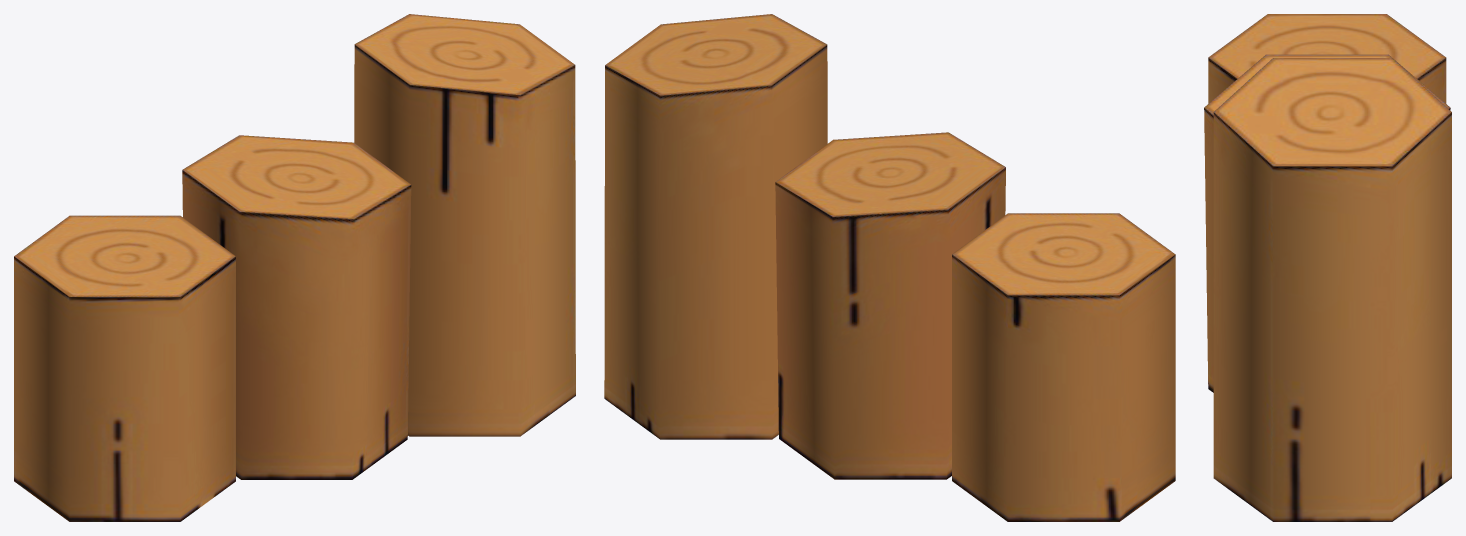
File: muzhalan_002.fbx
3 views of the same model, side by side, from view 1: azimuth 30°, elevation 25°; view 2: azimuth 150°, elevation 25°; view 3: azimuth 270°, elevation 25° (orthographic). The views are drawn at different scales.
Visible parts, largest first — view 1: muzhalan_002; view 2: muzhalan_002; view 3: muzhalan_002.
Boxes of the visible parts, box(x1,y1,x2,y2) form: muzhalan_002: box(14, 14, 575, 521); muzhalan_002: box(604, 14, 1175, 521); muzhalan_002: box(1204, 14, 1451, 521).
Size of the model in its own units: 34.47 by 22.75 by 13.54.
